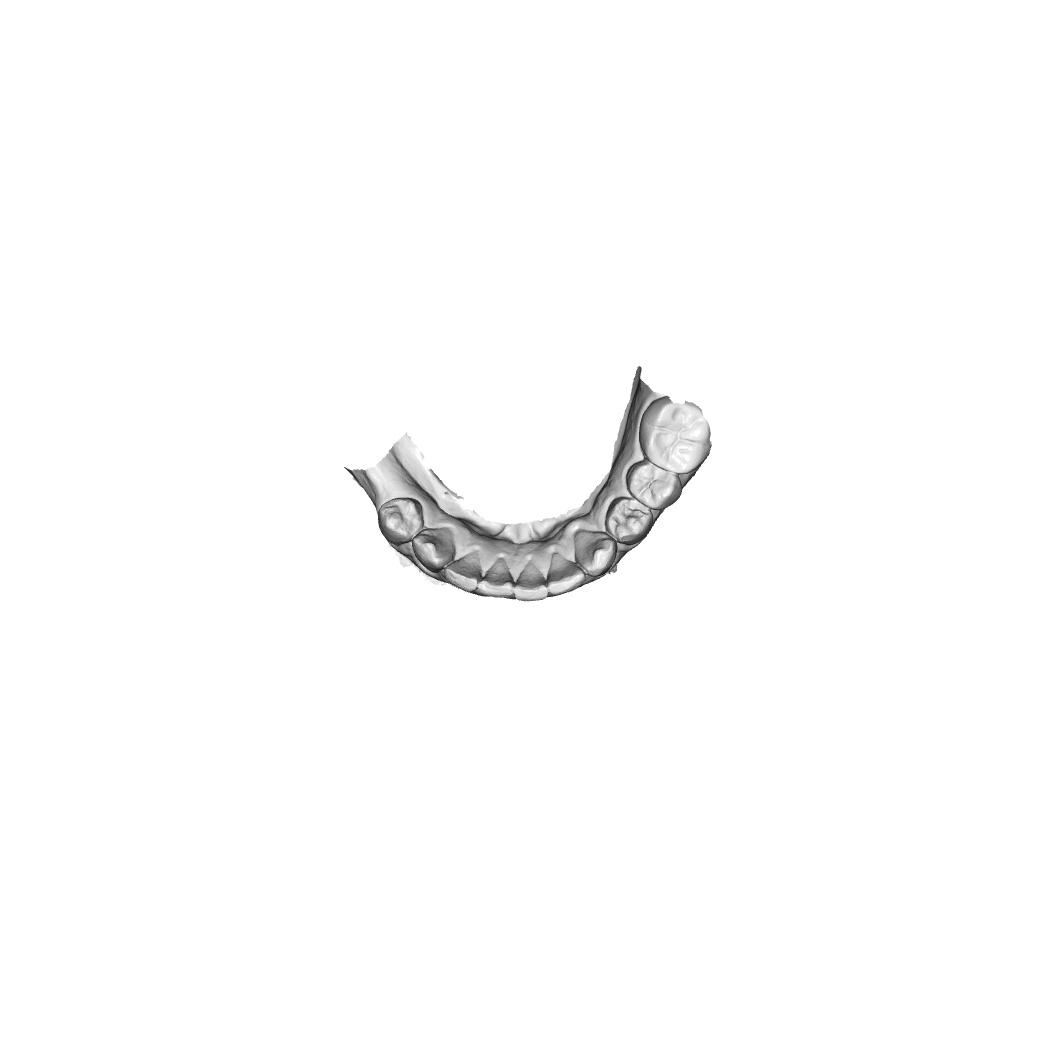canine: (573, 529, 618, 577), (411, 526, 456, 574)
incisor: (547, 552, 587, 596), (476, 556, 514, 599), (443, 550, 481, 592), (513, 559, 548, 603)
molar: (638, 395, 713, 475)
premolar: (625, 459, 683, 511), (604, 496, 654, 546), (377, 497, 424, 545)
